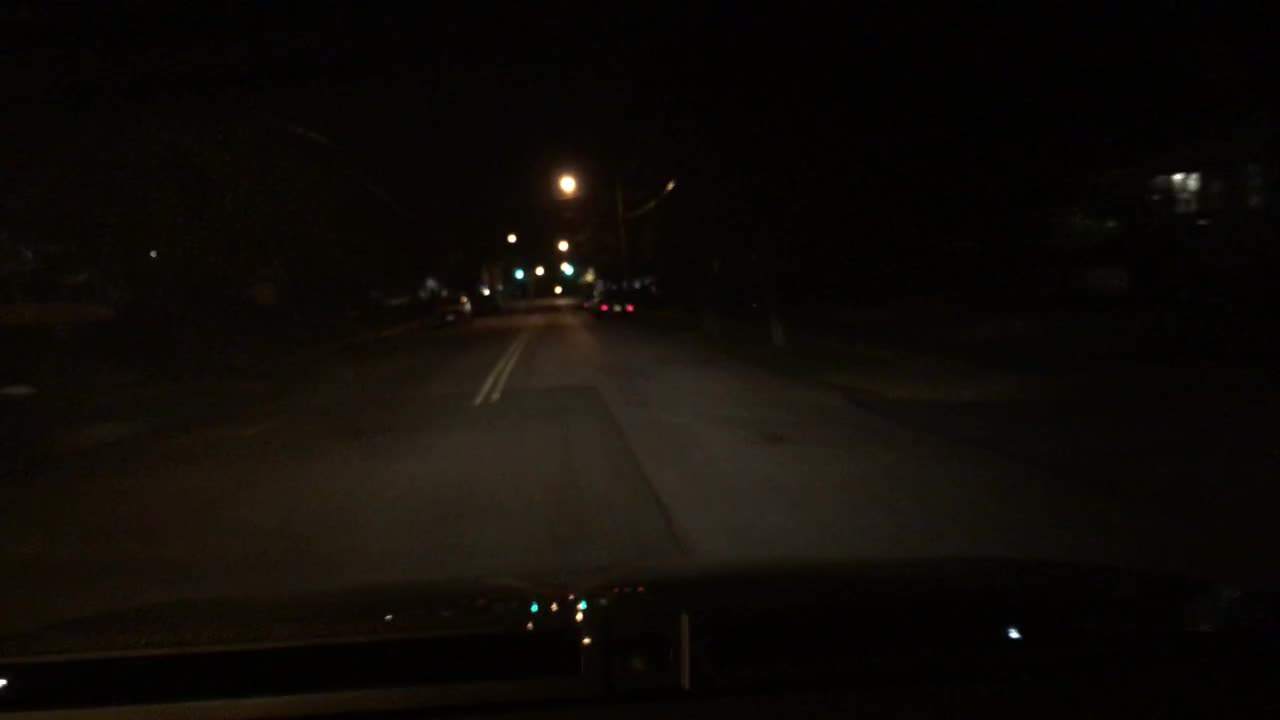car: (595, 285, 647, 322), (459, 282, 502, 320), (430, 292, 475, 328), (580, 292, 604, 314)
traffic light: (513, 265, 526, 282), (562, 261, 575, 277)
